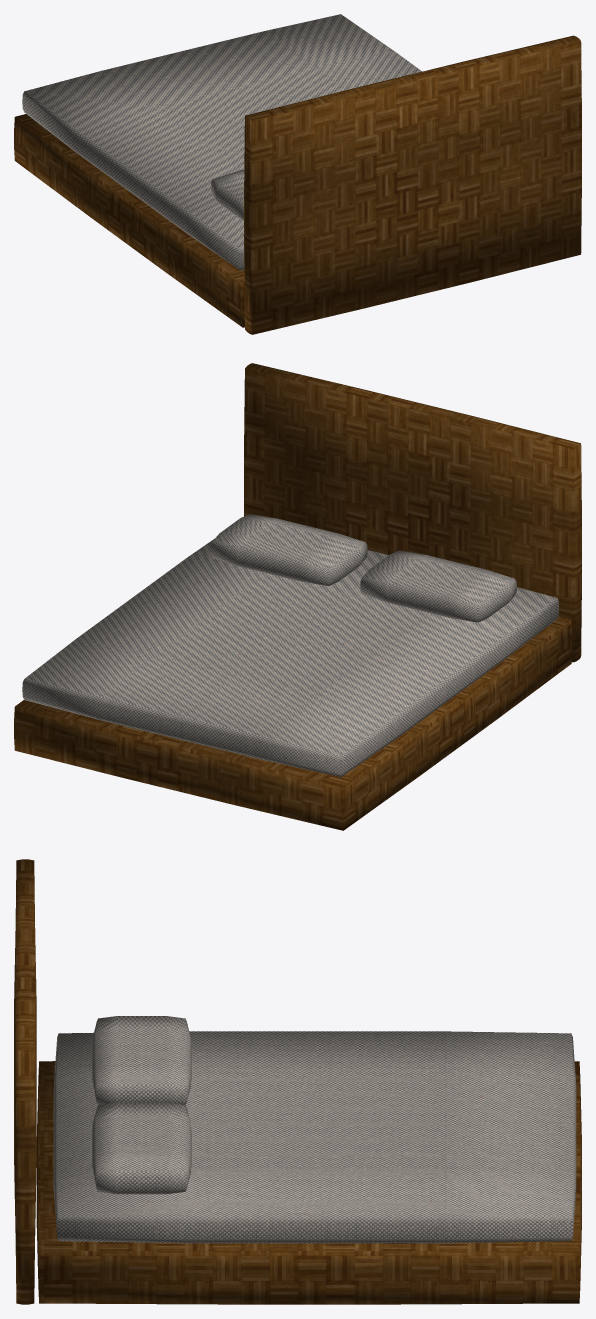
File: fitroom_platform_bed_1k.gltf
The picture shows the model from 3 angles, top to bottom: view 1: azimuth 30°, elevation 25°; view 2: azimuth 150°, elevation 25°; view 3: azimuth 270°, elevation 25°; orthographic projection. The views are drawn at different scales.
Visible parts, largest first — view 1: fitroom_platform_bed-node-4, fitroom_platform_bed-node-1, fitroom_platform_bed-node-0, fitroom_platform_bed-node-2; view 2: fitroom_platform_bed-node-1, fitroom_platform_bed-node-4, fitroom_platform_bed-node-0, fitroom_platform_bed-node-3, fitroom_platform_bed-node-2; view 3: fitroom_platform_bed-node-1, fitroom_platform_bed-node-0, fitroom_platform_bed-node-4, fitroom_platform_bed-node-3, fitroom_platform_bed-node-2.
Part boxes in pixels (x1,y1,x2,y2): fitroom_platform_bed-node-4: (244, 35, 581, 334); fitroom_platform_bed-node-1: (22, 14, 421, 270); fitroom_platform_bed-node-0: (14, 114, 244, 327); fitroom_platform_bed-node-2: (210, 169, 244, 220); fitroom_platform_bed-node-1: (22, 538, 558, 777); fitroom_platform_bed-node-4: (244, 363, 581, 662); fitroom_platform_bed-node-0: (14, 616, 572, 830); fitroom_platform_bed-node-3: (210, 514, 367, 585); fitroom_platform_bed-node-2: (360, 550, 516, 622); fitroom_platform_bed-node-1: (53, 1031, 576, 1243); fitroom_platform_bed-node-0: (36, 1061, 581, 1304); fitroom_platform_bed-node-4: (14, 859, 36, 1304); fitroom_platform_bed-node-3: (92, 1102, 191, 1194); fitroom_platform_bed-node-2: (92, 1016, 191, 1104).
Size of the model in its own units: 1.6 by 1 by 2.
2 materials, 2 textured.
